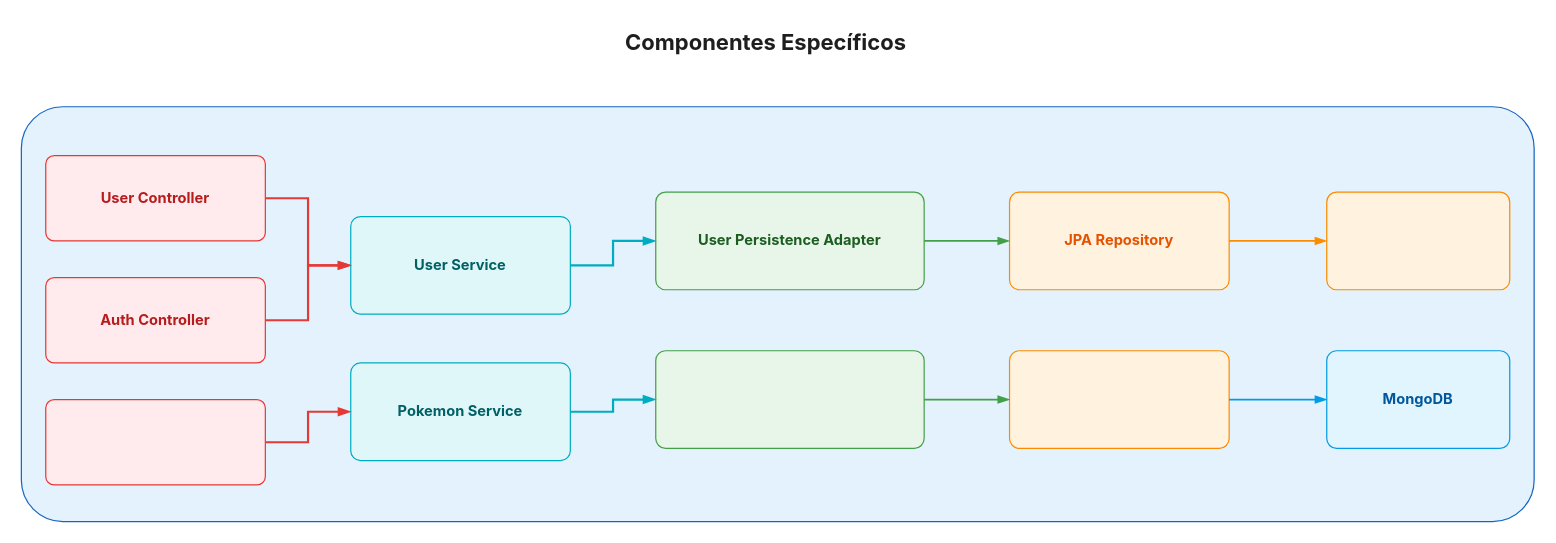
This 1556x543 diagram has some shape labels left out. The shapes that lost their labels are listed below. From the top down, each one's box as (x1, y1, x2, y2) in pixels, then its label:
(1326, 191, 1510, 290): PostgreSQL
(655, 350, 924, 448): Pokemon Persistence Adapter
(1008, 350, 1229, 448): Mongo Repository
(45, 398, 265, 485): Pokemon Controller
